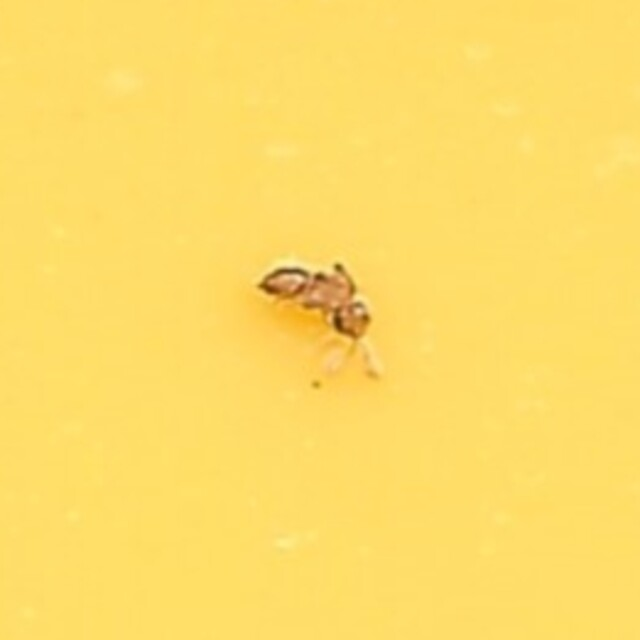Coleoptera: (245, 252, 395, 388)
